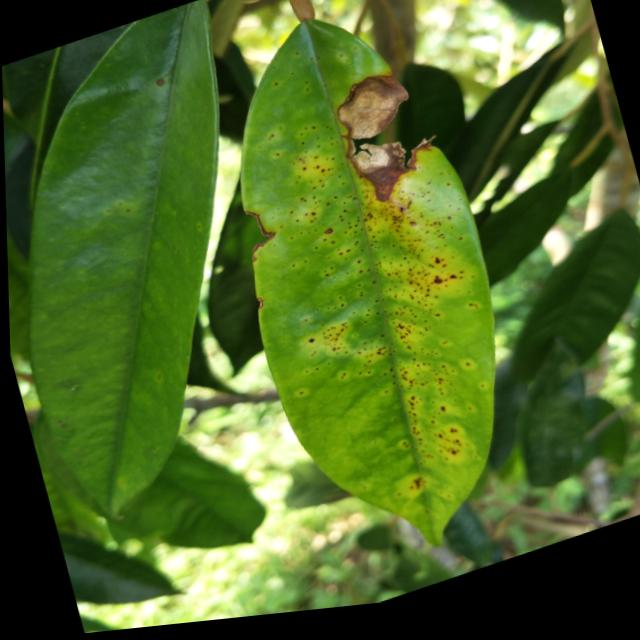Leaf Spot: (296, 214, 478, 504), (317, 47, 449, 217)
